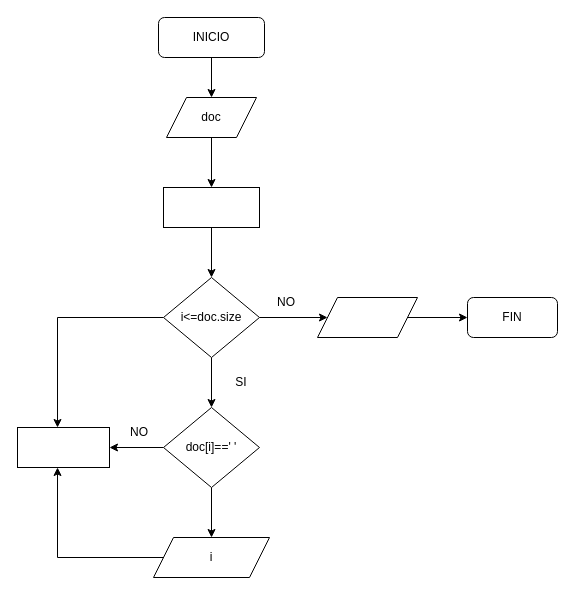
The diagram is 575 pixels wide and 595 high, and some of its shapes have lost their labels. The centre of each missing label's shape, as x and y in pixels:
"++i" goes at pixel 63 447.
"doc.size" goes at pixel 367 317.
"i=0" goes at pixel 211 207.
